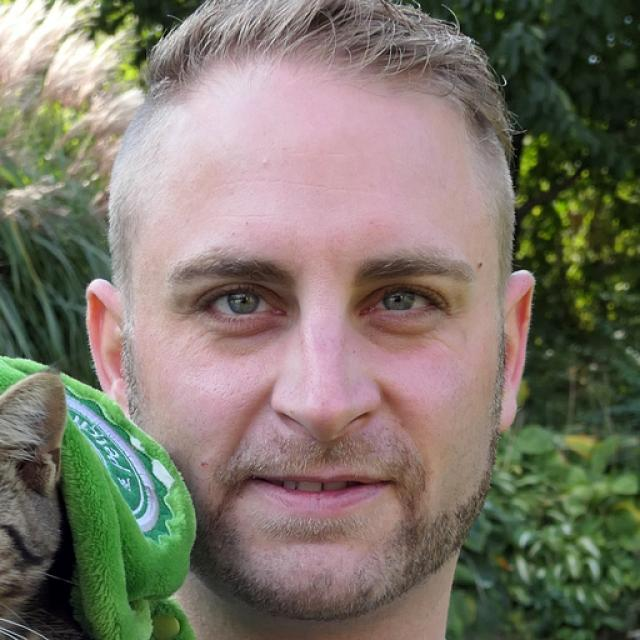Dark Circle: (195, 313, 290, 356), (351, 316, 441, 346), (251, 153, 284, 171), (470, 256, 489, 273)
